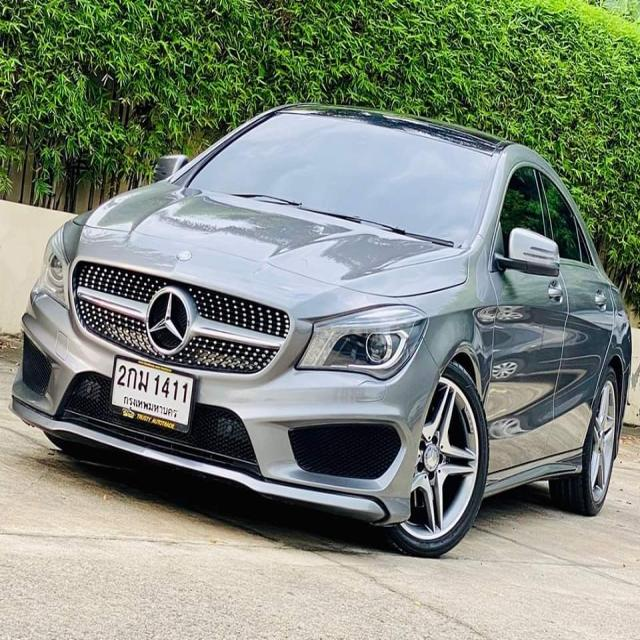license_plate: (110, 350, 195, 434)
